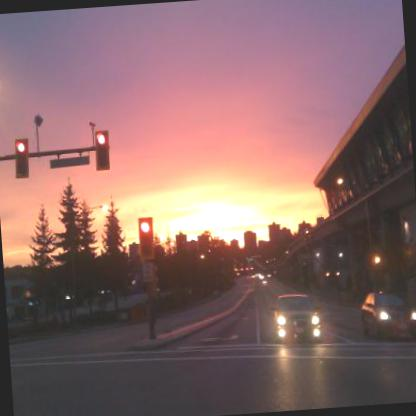car: (270, 288, 328, 350), (358, 283, 415, 344)
